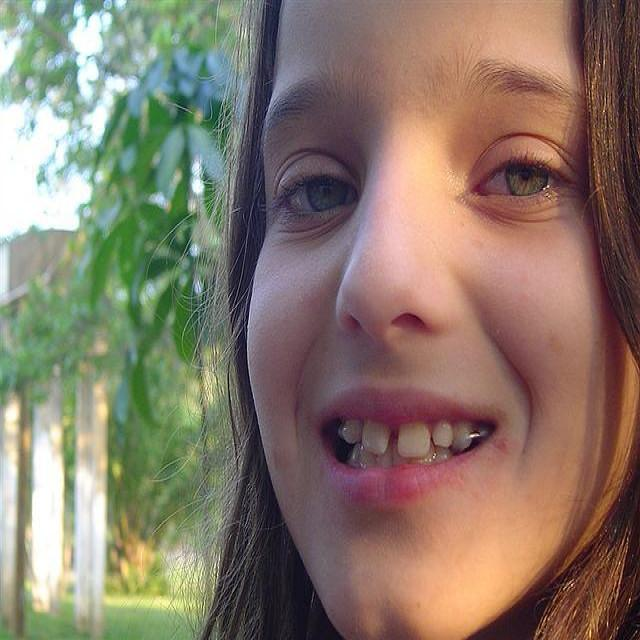no-glass: (268, 133, 557, 231)
